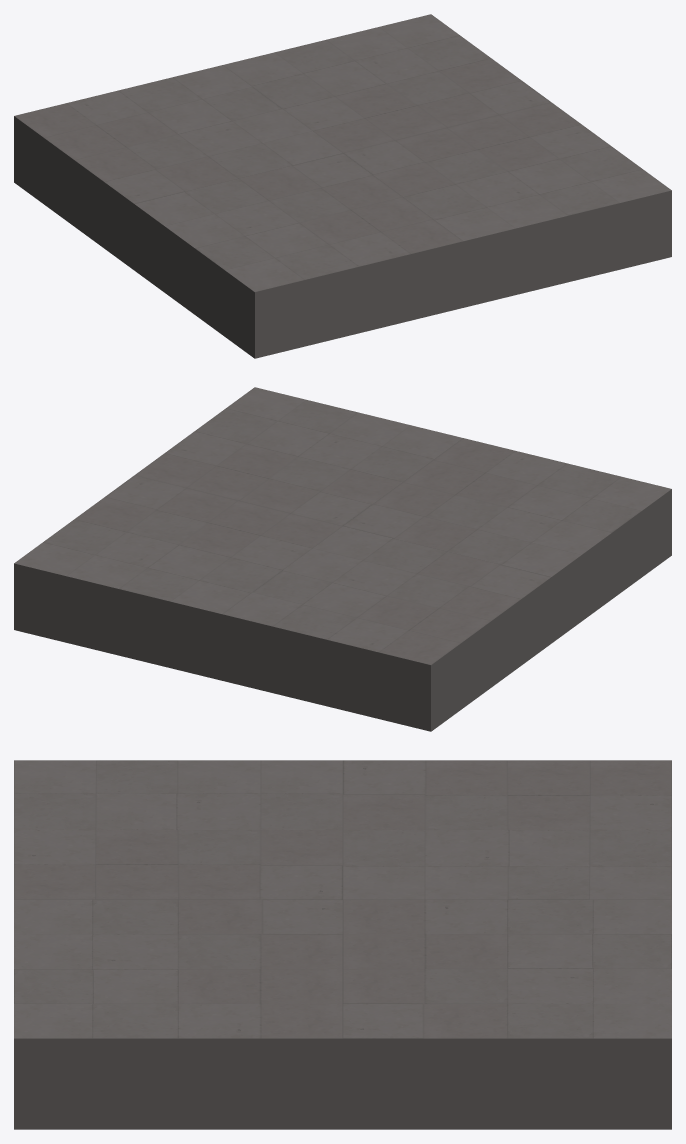
Rendered from SM_Floor_Tile_12.fbx.
The picture shows the model from 3 angles, top to bottom: view 1: azimuth 30°, elevation 25°; view 2: azimuth 150°, elevation 25°; view 3: azimuth 270°, elevation 25°; orthographic projection. The views are drawn at different scales.
Visible parts, largest first — view 1: SM_Floor_Tile_12; view 2: SM_Floor_Tile_12; view 3: SM_Floor_Tile_12.
Boxes of the visible parts, <box> form: SM_Floor_Tile_12: <box>14,14,671,358</box>; SM_Floor_Tile_12: <box>14,387,671,731</box>; SM_Floor_Tile_12: <box>14,760,671,1129</box>.
Size of the model in its own units: 20 by 3.05 by 20.
